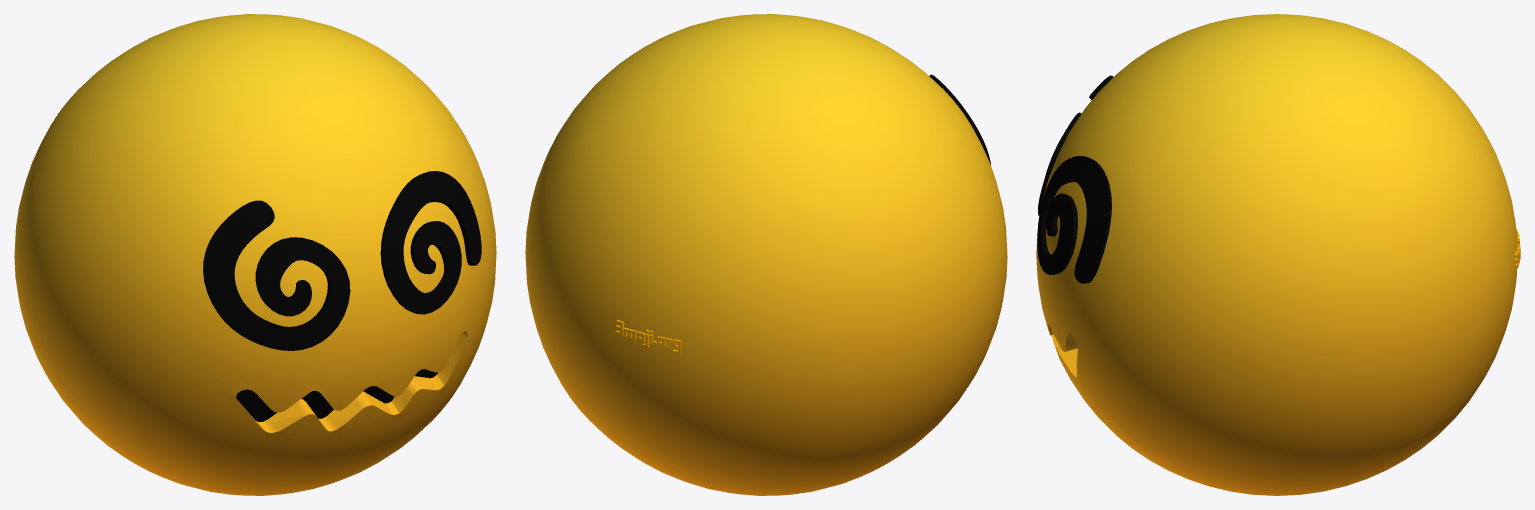
The model's file is face_with_spiral_eyes.glb.
3 renders of one model, left to right at view 1: azimuth 30°, elevation 25°; view 2: azimuth 150°, elevation 25°; view 3: azimuth 270°, elevation 25°, orthographic.
Visible parts, largest first — view 1: Ball.126; view 2: Ball.126; view 3: Ball.126.
Part boxes in pixels (x1=…): Ball.126: x1=14, y1=14, x2=496, y2=495; Ball.126: x1=525, y1=14, x2=1007, y2=495; Ball.126: x1=1036, y1=14, x2=1520, y2=495.
Size of the model in its own units: 1.69 by 1.69 by 1.7.
Materials: 1 (1 with a texture image).
